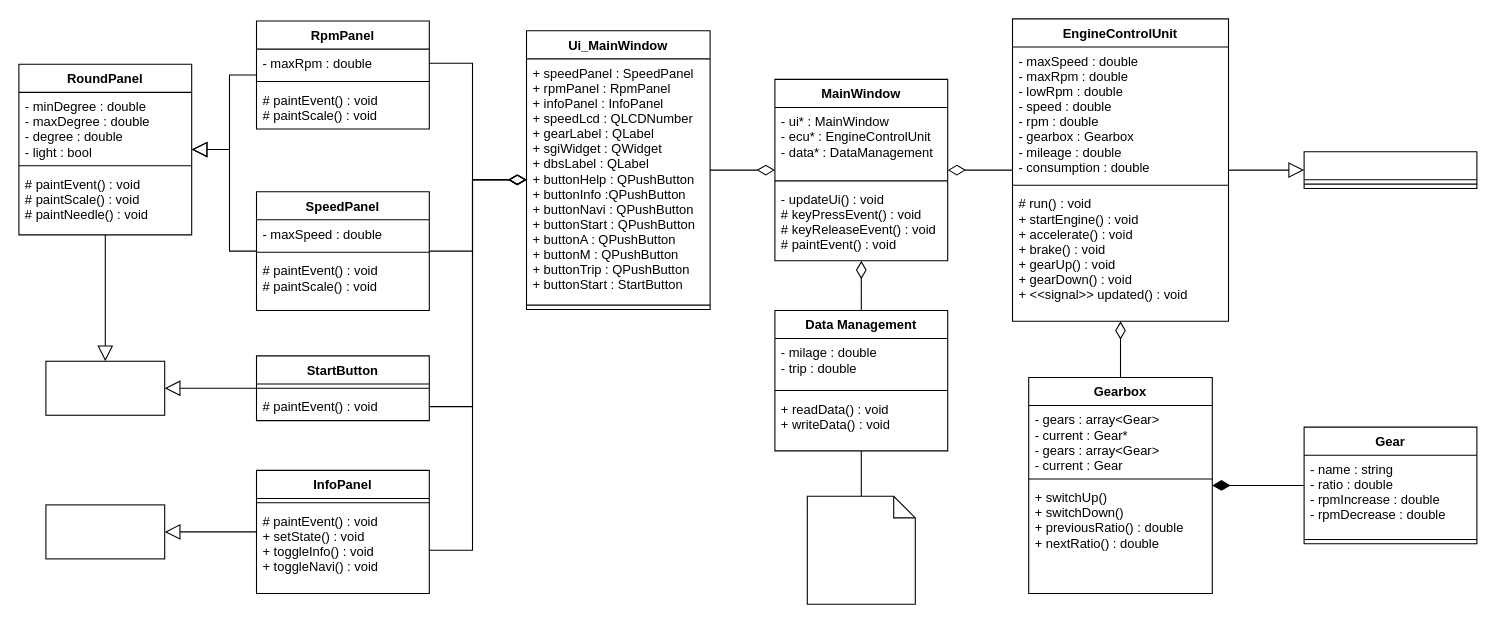
Image size: 1496x623. Some labels were removed from this diagram. Here are the shapes that lost their labels. From the top down, the centre of each, then its label:
At point (1390, 169): "QThread".
At point (105, 387): "QPushButton".
At point (105, 531): "QWidget".
At point (860, 549): "data.txt".
